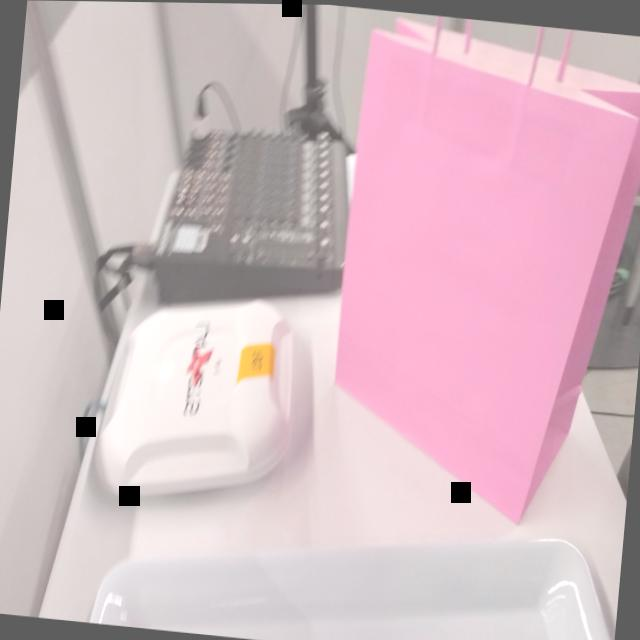tray: (77, 492, 622, 640)
